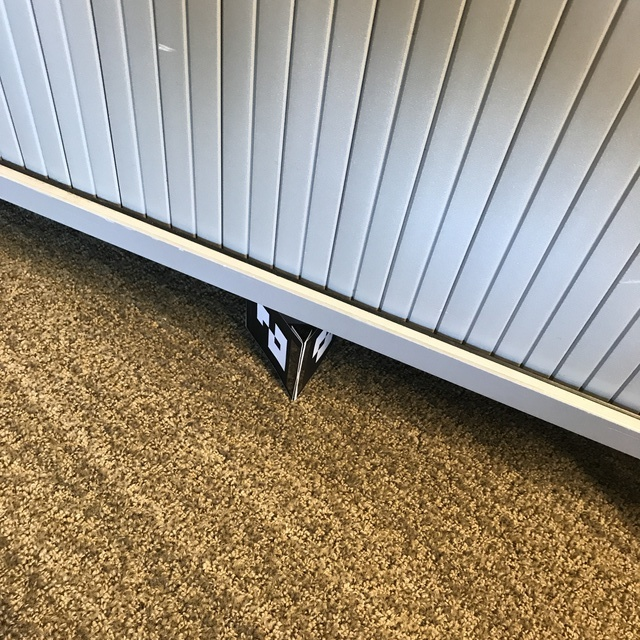ARTag: (246, 299, 334, 404)
